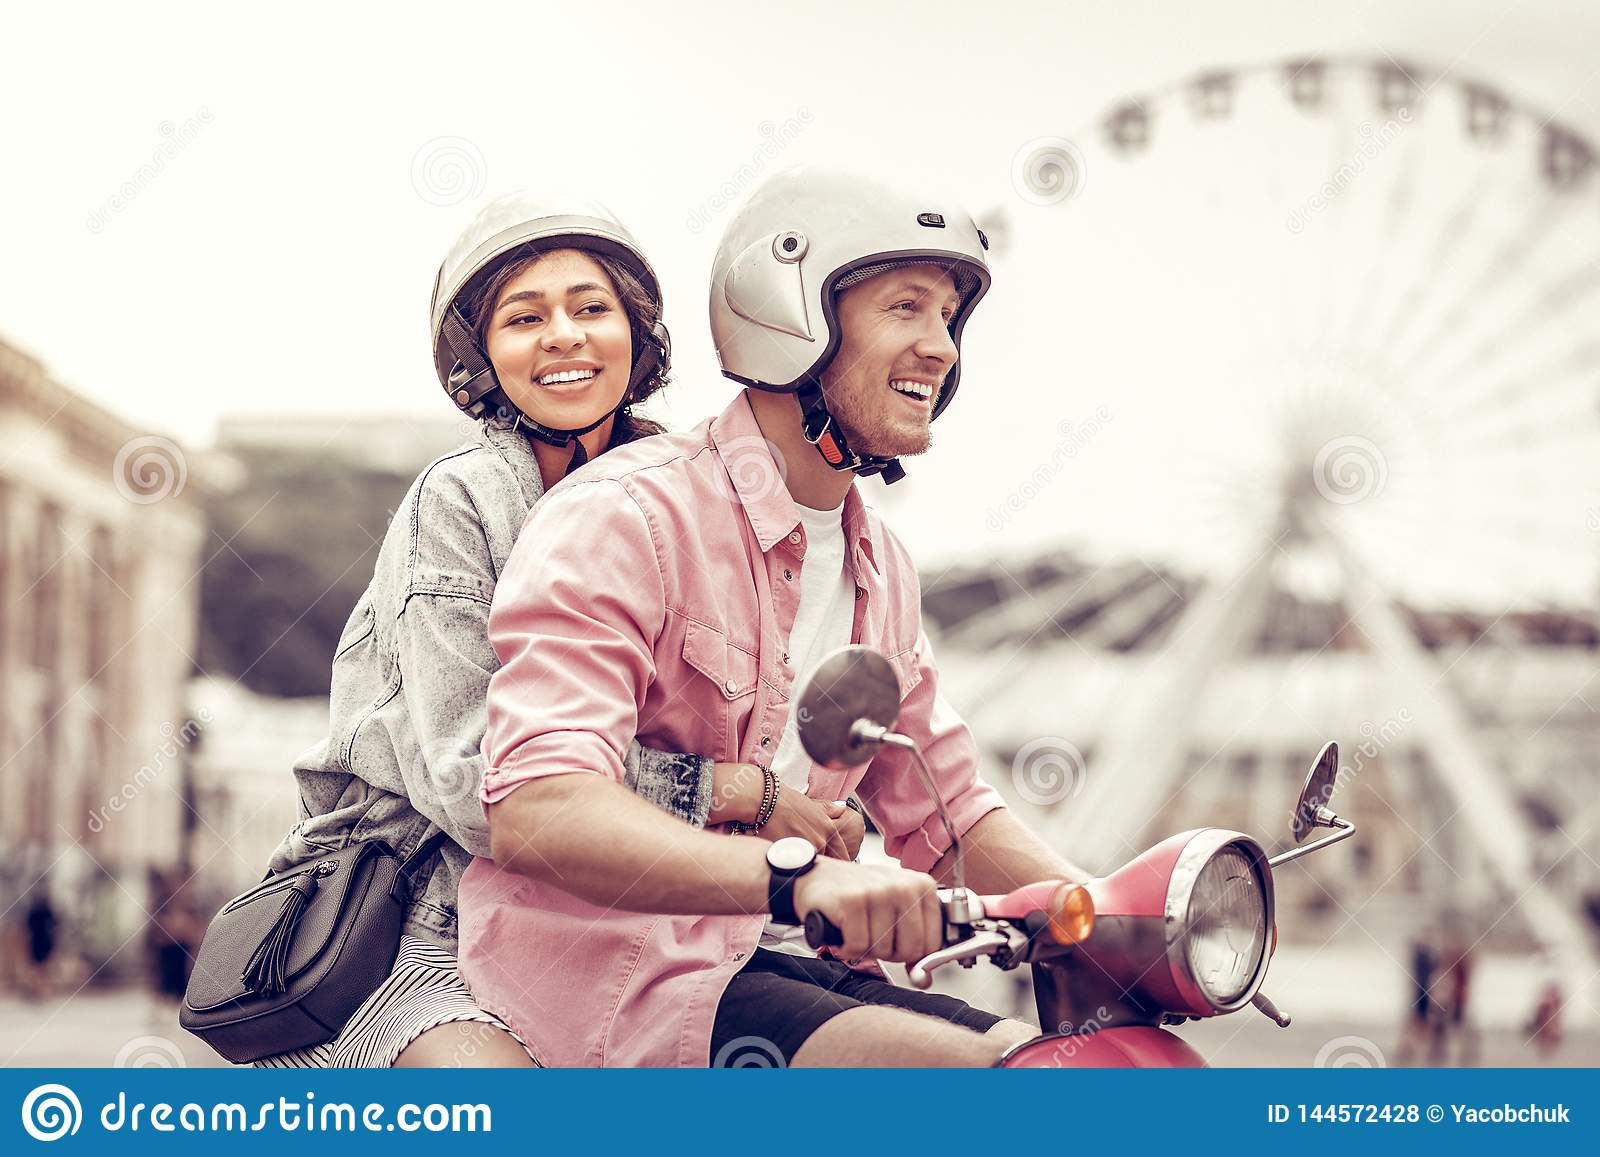helmet: (689, 162, 985, 372), (425, 184, 634, 323)
